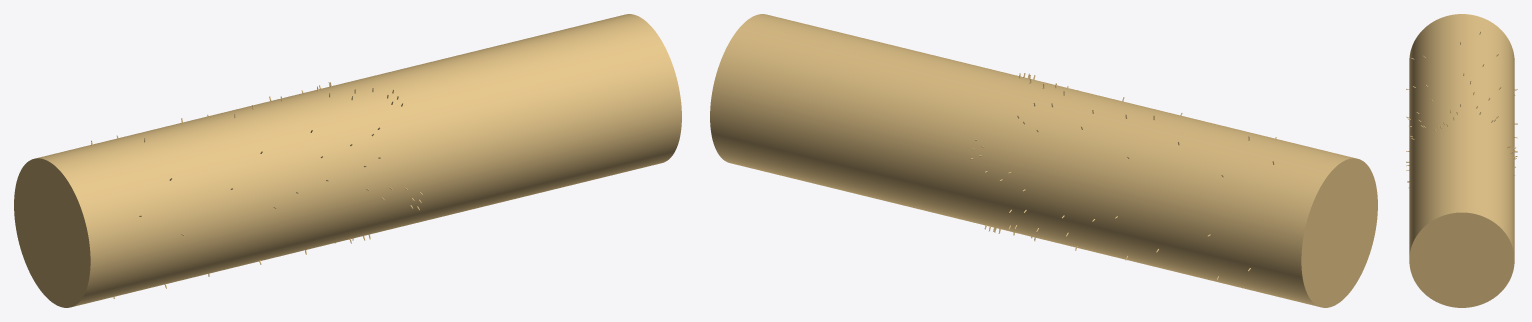
File: Fu-r-Elise.glb
3 renders of one model, left to right at view 1: azimuth 30°, elevation 25°; view 2: azimuth 150°, elevation 25°; view 3: azimuth 270°, elevation 25°, orthographic. The views are drawn at different scales.
Parts seen in each view (by area): view 1: cylinder_body; view 2: cylinder_body; view 3: cylinder_body.
Part boxes in pixels (bbox=[...]): cylinder_body: bbox=[14, 14, 681, 307]; cylinder_body: bbox=[710, 14, 1377, 307]; cylinder_body: bbox=[1409, 14, 1514, 307].
Bounding box in the file's own units: 0.214 × 0.051 × 0.051.
